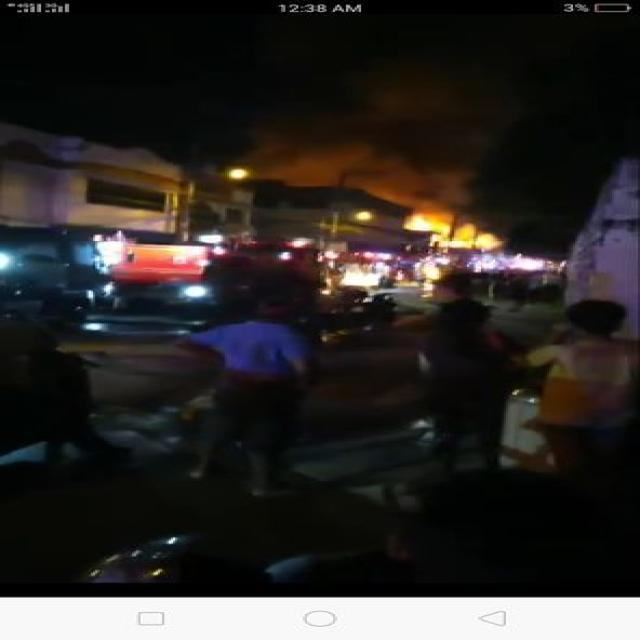Fire: (411, 194, 492, 246)
Smoke: (272, 105, 482, 196)
